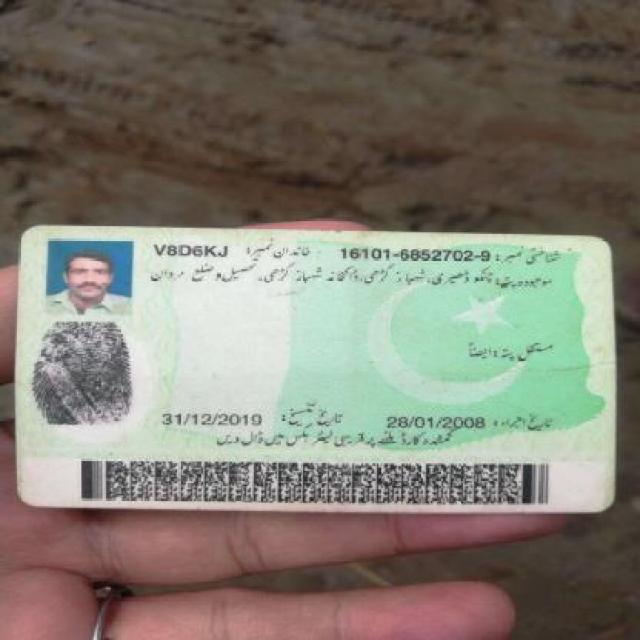Back: (9, 217, 623, 520)
